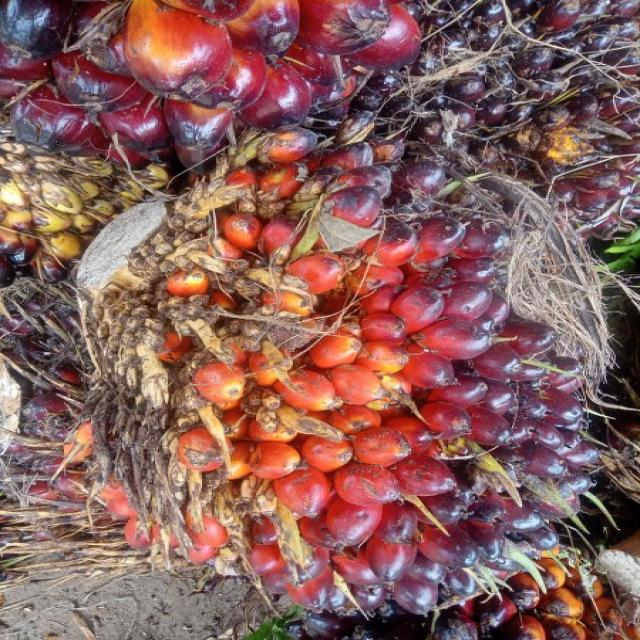fraksi 3: (39, 105, 630, 640)
